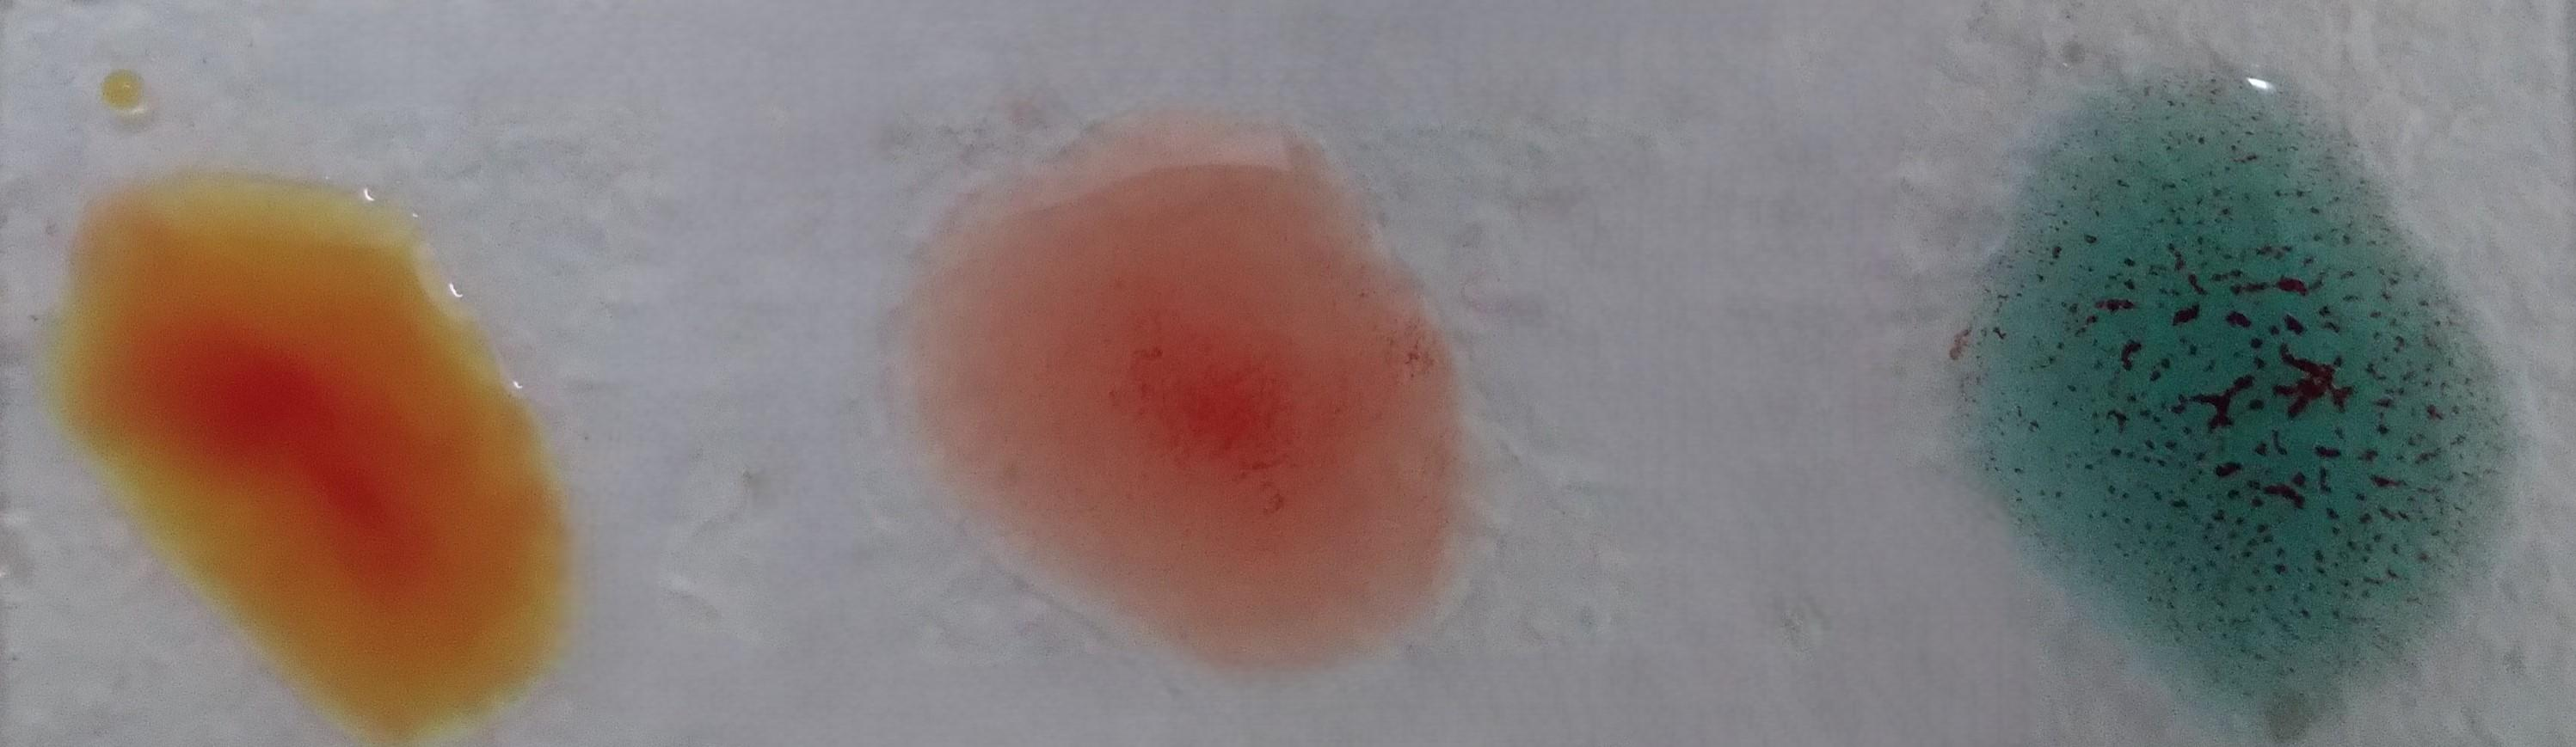A: (1968, 76, 2509, 721)
D: (941, 130, 1431, 655)
